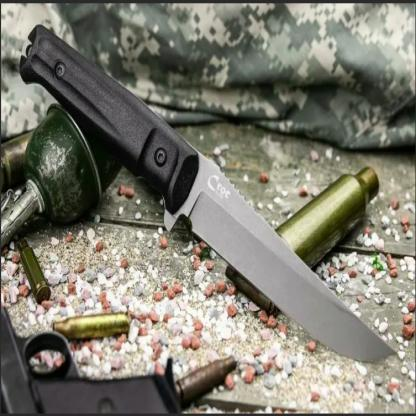Grenade: (0, 100, 125, 242)
Knife: (18, 23, 398, 366)
Pistol: (2, 304, 181, 416)
